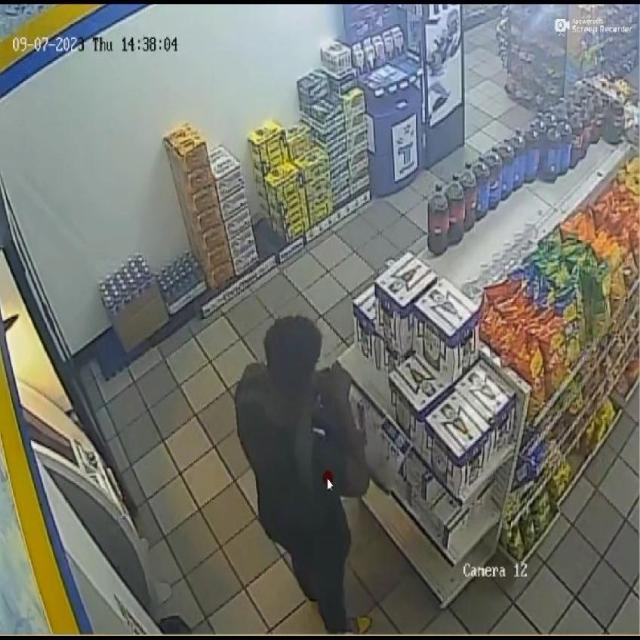Shoplifting: (220, 276, 422, 640)
